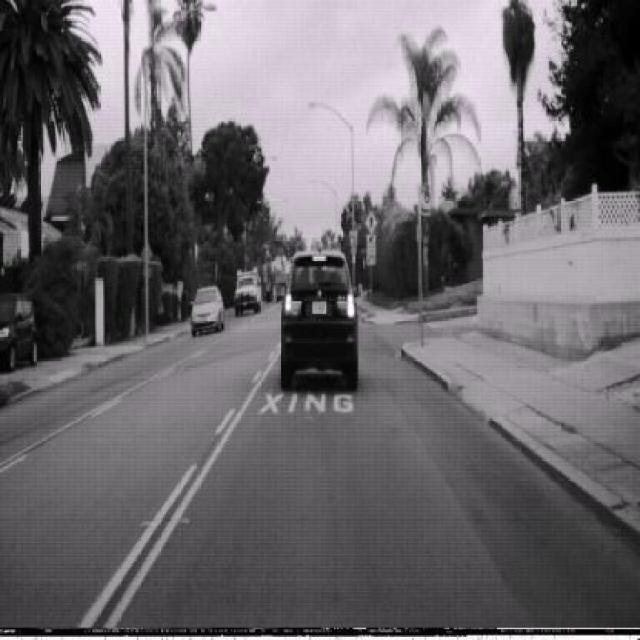pedestrianCrossing: (365, 209, 377, 234)
